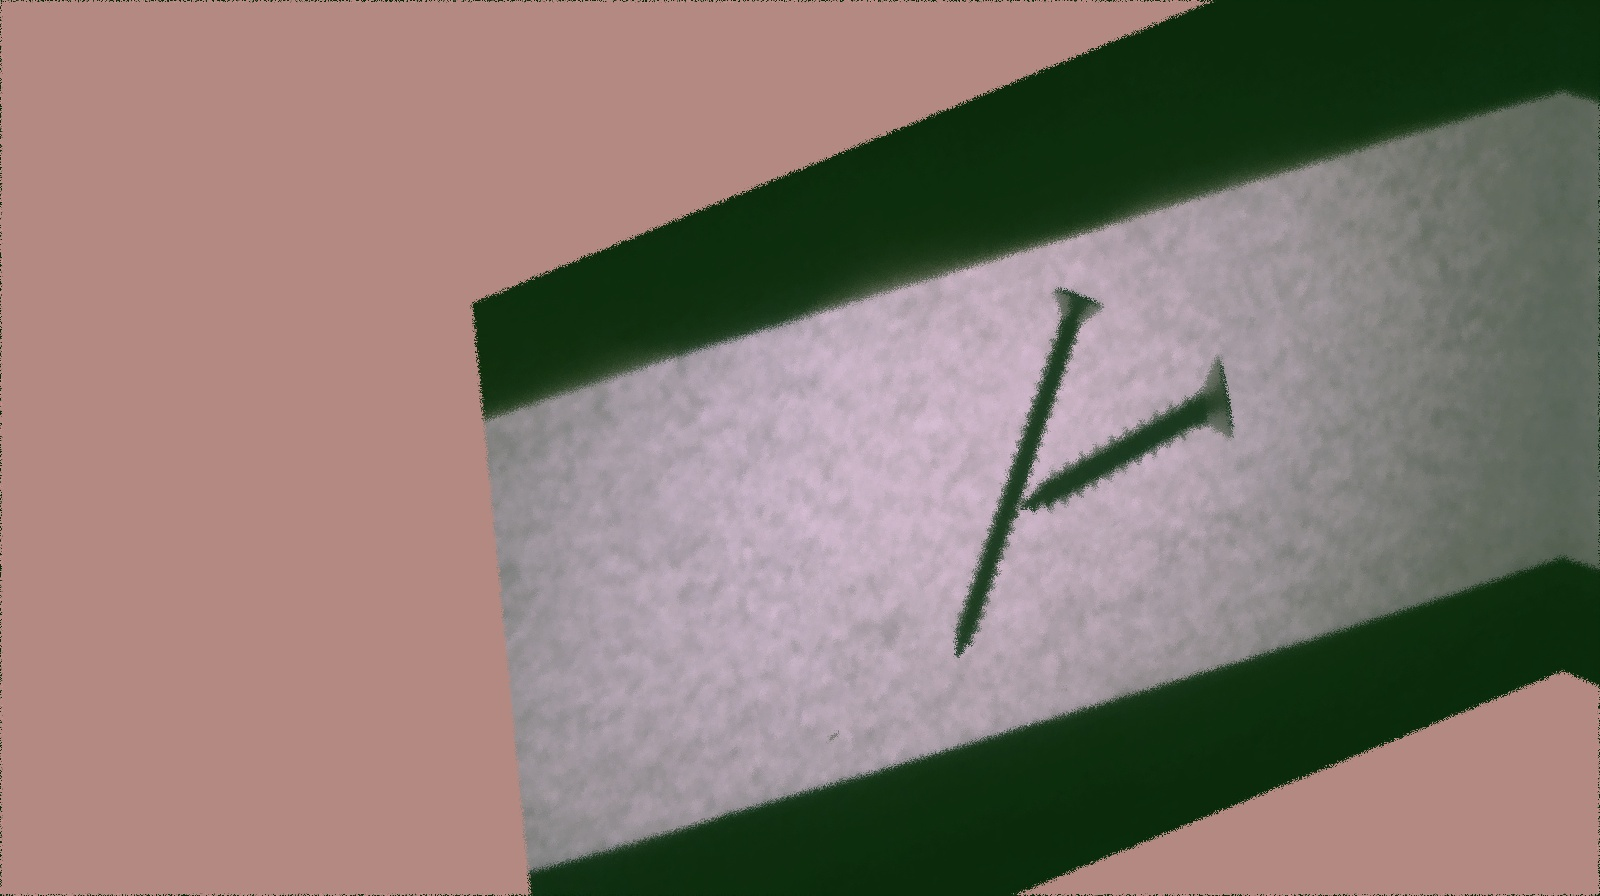S001: (1015, 349, 1242, 533)
S002: (916, 267, 1134, 667)
